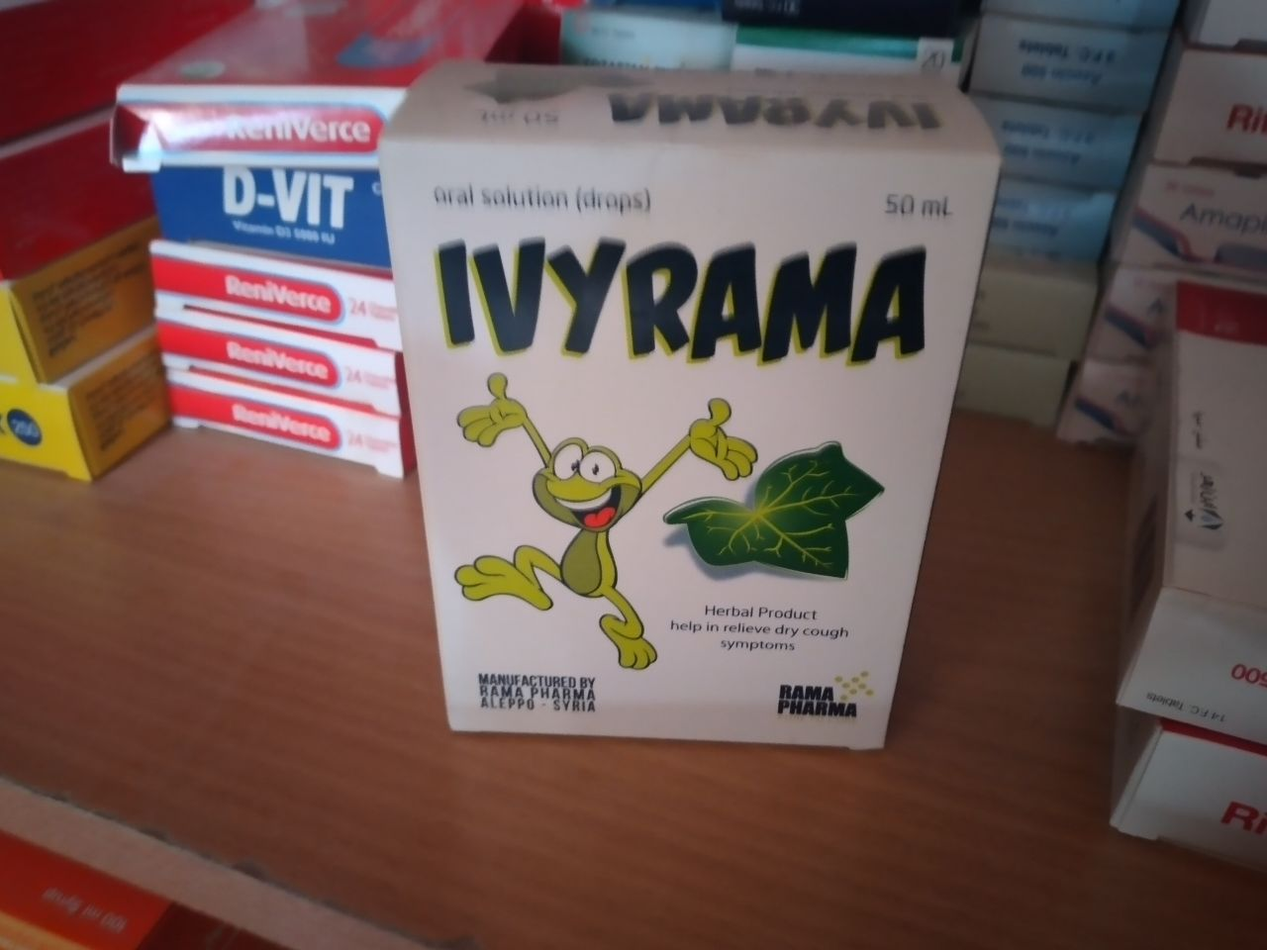Medicine: (324, 47, 1020, 782)
